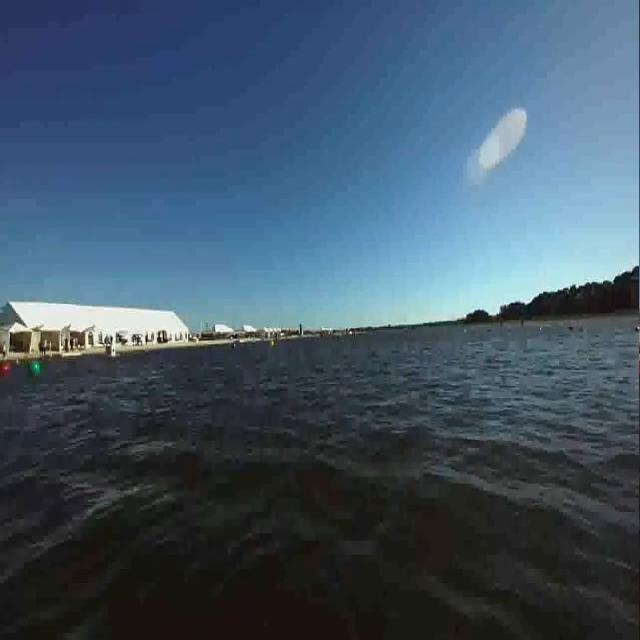green-buoy: (27, 359, 45, 381)
red-buoy: (1, 358, 13, 376)
